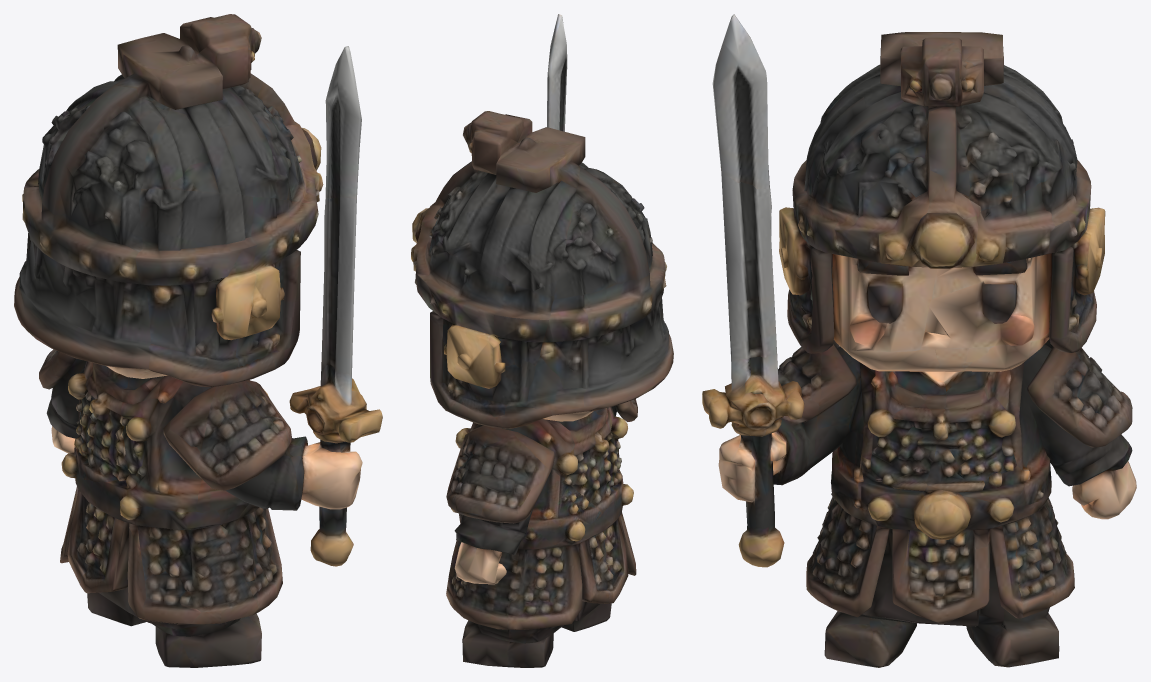
The model's file is general.glb.
3 views of the same model, side by side, from view 1: azimuth 30°, elevation 25°; view 2: azimuth 150°, elevation 25°; view 3: azimuth 270°, elevation 25° (orthographic). The views are drawn at different scales.
Parts seen in each view (by area): view 1: tripo_node_1457c2d1-9fd8-4337-8655-c1f9d4a08fe5; view 2: tripo_node_1457c2d1-9fd8-4337-8655-c1f9d4a08fe5; view 3: tripo_node_1457c2d1-9fd8-4337-8655-c1f9d4a08fe5.
Boxes of the visible parts, x1,y1,x2,y2 form: tripo_node_1457c2d1-9fd8-4337-8655-c1f9d4a08fe5: [14, 14, 382, 667]; tripo_node_1457c2d1-9fd8-4337-8655-c1f9d4a08fe5: [411, 14, 673, 667]; tripo_node_1457c2d1-9fd8-4337-8655-c1f9d4a08fe5: [702, 14, 1136, 667].
Bounding box in the file's own units: 0.4613 × 0.9991 × 0.5912.
Materials: 1 (1 with a texture image).
